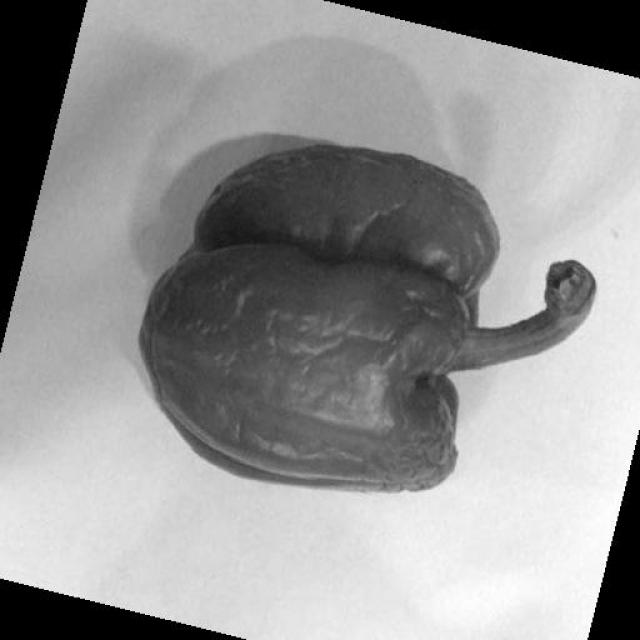Stale_Capsicum: (142, 128, 554, 522)
